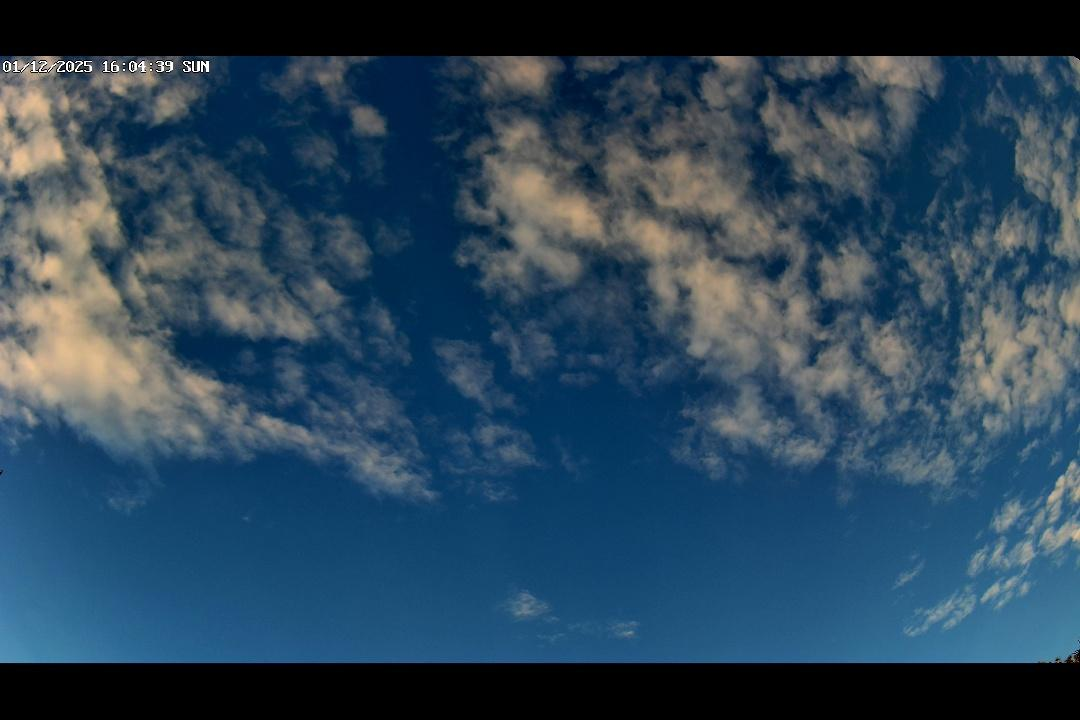WildLife: (0, 467, 7, 481)
